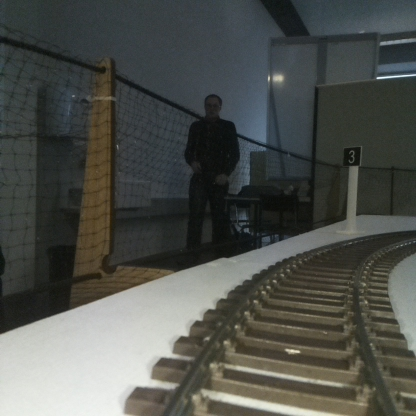black-info-3: (343, 147, 360, 232)
